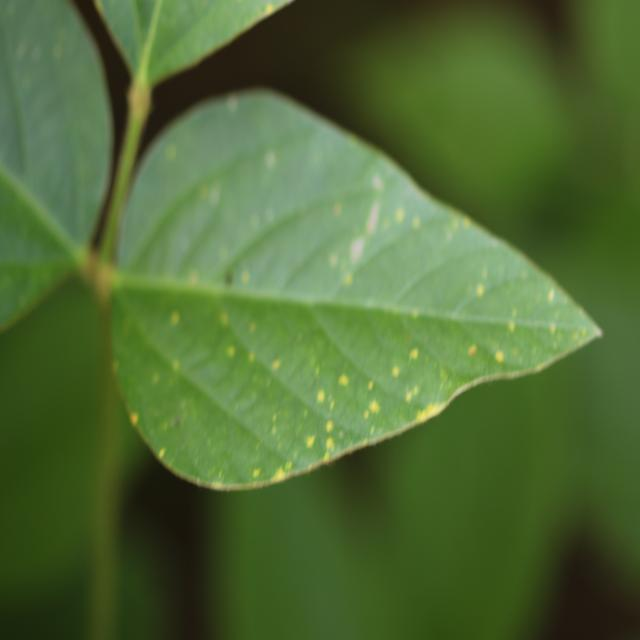Soybean: (0, 0, 603, 495)
downey_mildew: (433, 268, 576, 396), (155, 320, 279, 446), (315, 184, 435, 306), (306, 358, 380, 451), (260, 381, 329, 455), (142, 364, 199, 438), (385, 335, 432, 403), (244, 351, 256, 369), (189, 270, 200, 285), (396, 209, 405, 222), (220, 314, 228, 325), (227, 346, 235, 357), (345, 275, 352, 286)
